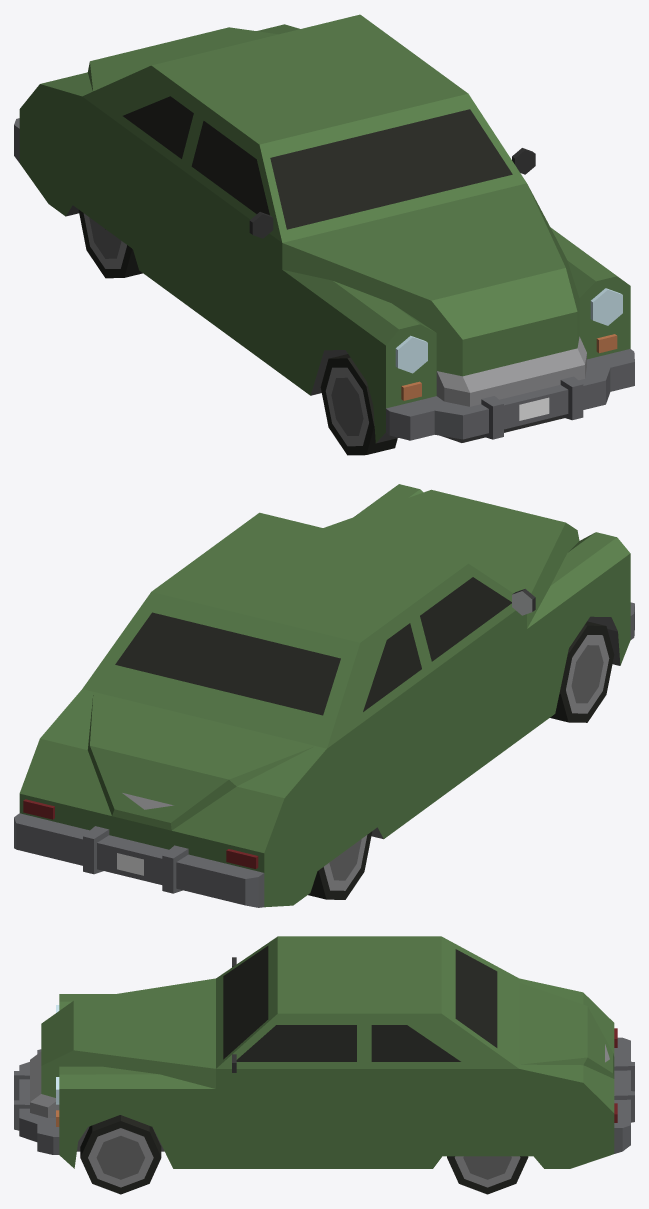
File: Veh_Retro_Car_01_Green.glb
3 views of the same model, one above another, from view 1: azimuth 30°, elevation 25°; view 2: azimuth 150°, elevation 25°; view 3: azimuth 270°, elevation 25° (orthographic). The views are drawn at different scales.
Visible parts, largest first — view 1: Retro_Car_01_Green, Wheel_FR, Wheel_RR; view 2: Retro_Car_01_Green, Wheel_FR, Wheel_RR; view 3: Retro_Car_01_Green, Wheel_FL, Wheel_RL.
Boxes of the visible parts, x1,y1,x2,y2 form: Retro_Car_01_Green: (14,14,634,443); Wheel_FR: (320,354,397,455); Wheel_RR: (78,210,142,278); Retro_Car_01_Green: (14,484,634,907); Wheel_FR: (550,621,614,722); Wheel_RR: (308,831,372,899); Retro_Car_01_Green: (14,936,634,1168); Wheel_FL: (80,1115,161,1194); Wheel_RL: (447,1156,528,1194).
Size of the model in its own units: 1.1 by 0.863 by 2.77.
1 material, 1 textured.
